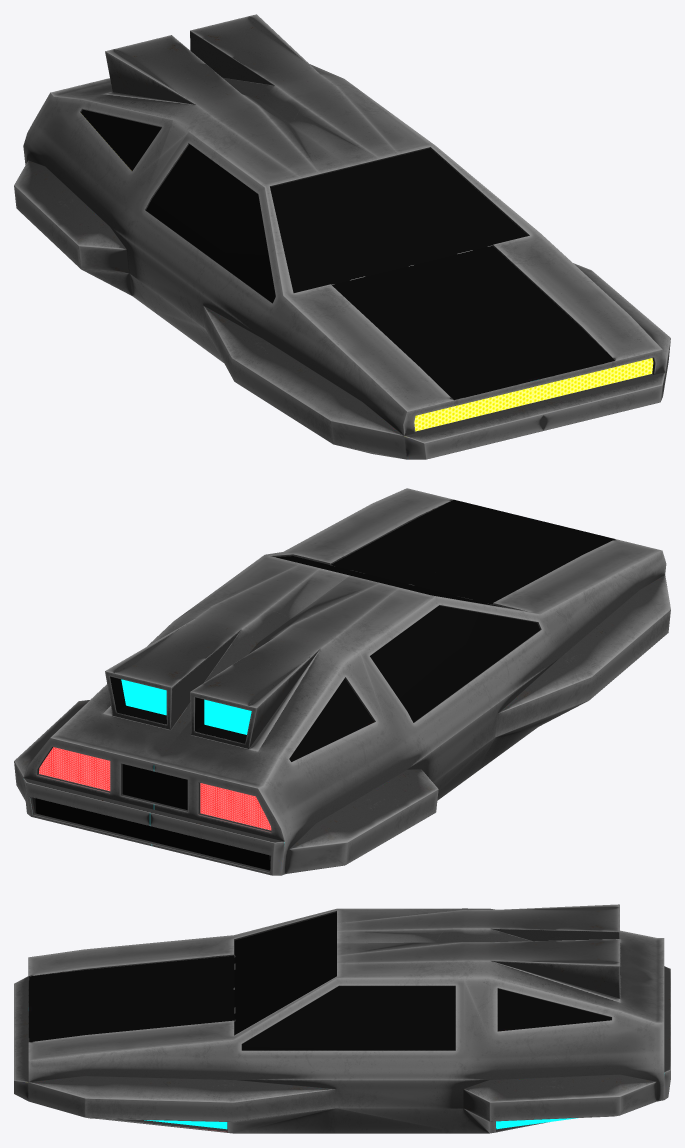
The model's file is Flyingcar.fbx.
The picture shows the model from 3 angles, top to bottom: view 1: azimuth 30°, elevation 25°; view 2: azimuth 150°, elevation 25°; view 3: azimuth 270°, elevation 25°; orthographic projection. The views are drawn at different scales.
Parts seen in each view (by area): view 1: DMC Sci-Fi Hover Car; view 2: DMC Sci-Fi Hover Car; view 3: DMC Sci-Fi Hover Car.
Boxes of the visible parts, x1,y1,x2,y2 form: DMC Sci-Fi Hover Car: (14, 14, 670, 459); DMC Sci-Fi Hover Car: (14, 488, 670, 875); DMC Sci-Fi Hover Car: (14, 904, 670, 1133).
Bounding box in the file's own units: 221 × 103 × 417.
